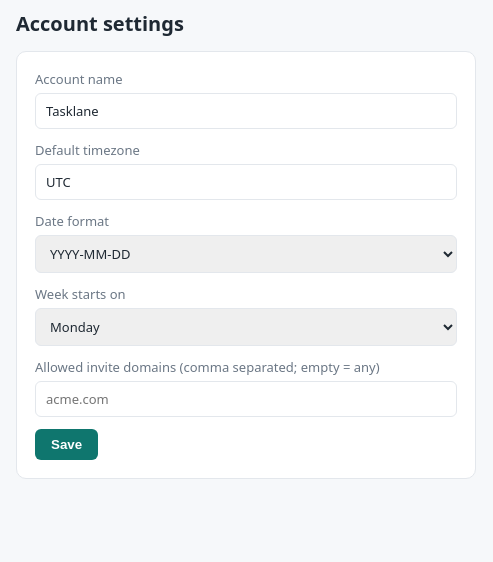
AccountSettings › shows server validation errors
Step 1. Replace the text in the field with test id "account-timezone" with "Mars/Base" → (246, 182), box [35,164,457,200]
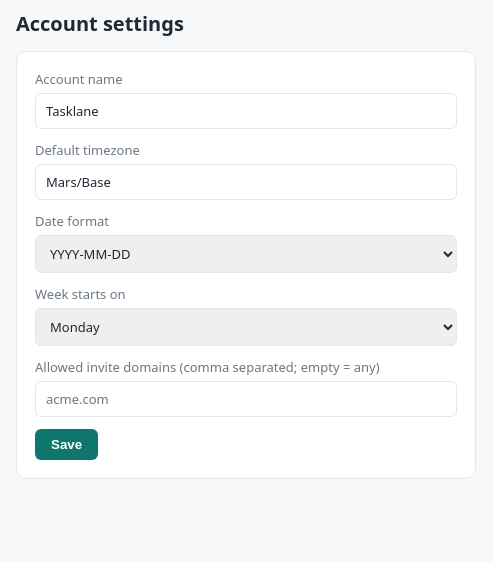
Step 2. Click the button with test id "account-save" → (67, 444), box [35,429,98,460]
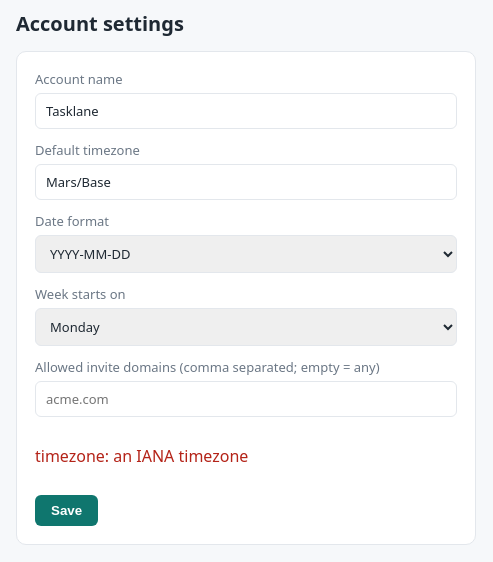
Check: the message shows "IANA", box [35,445,248,467]
